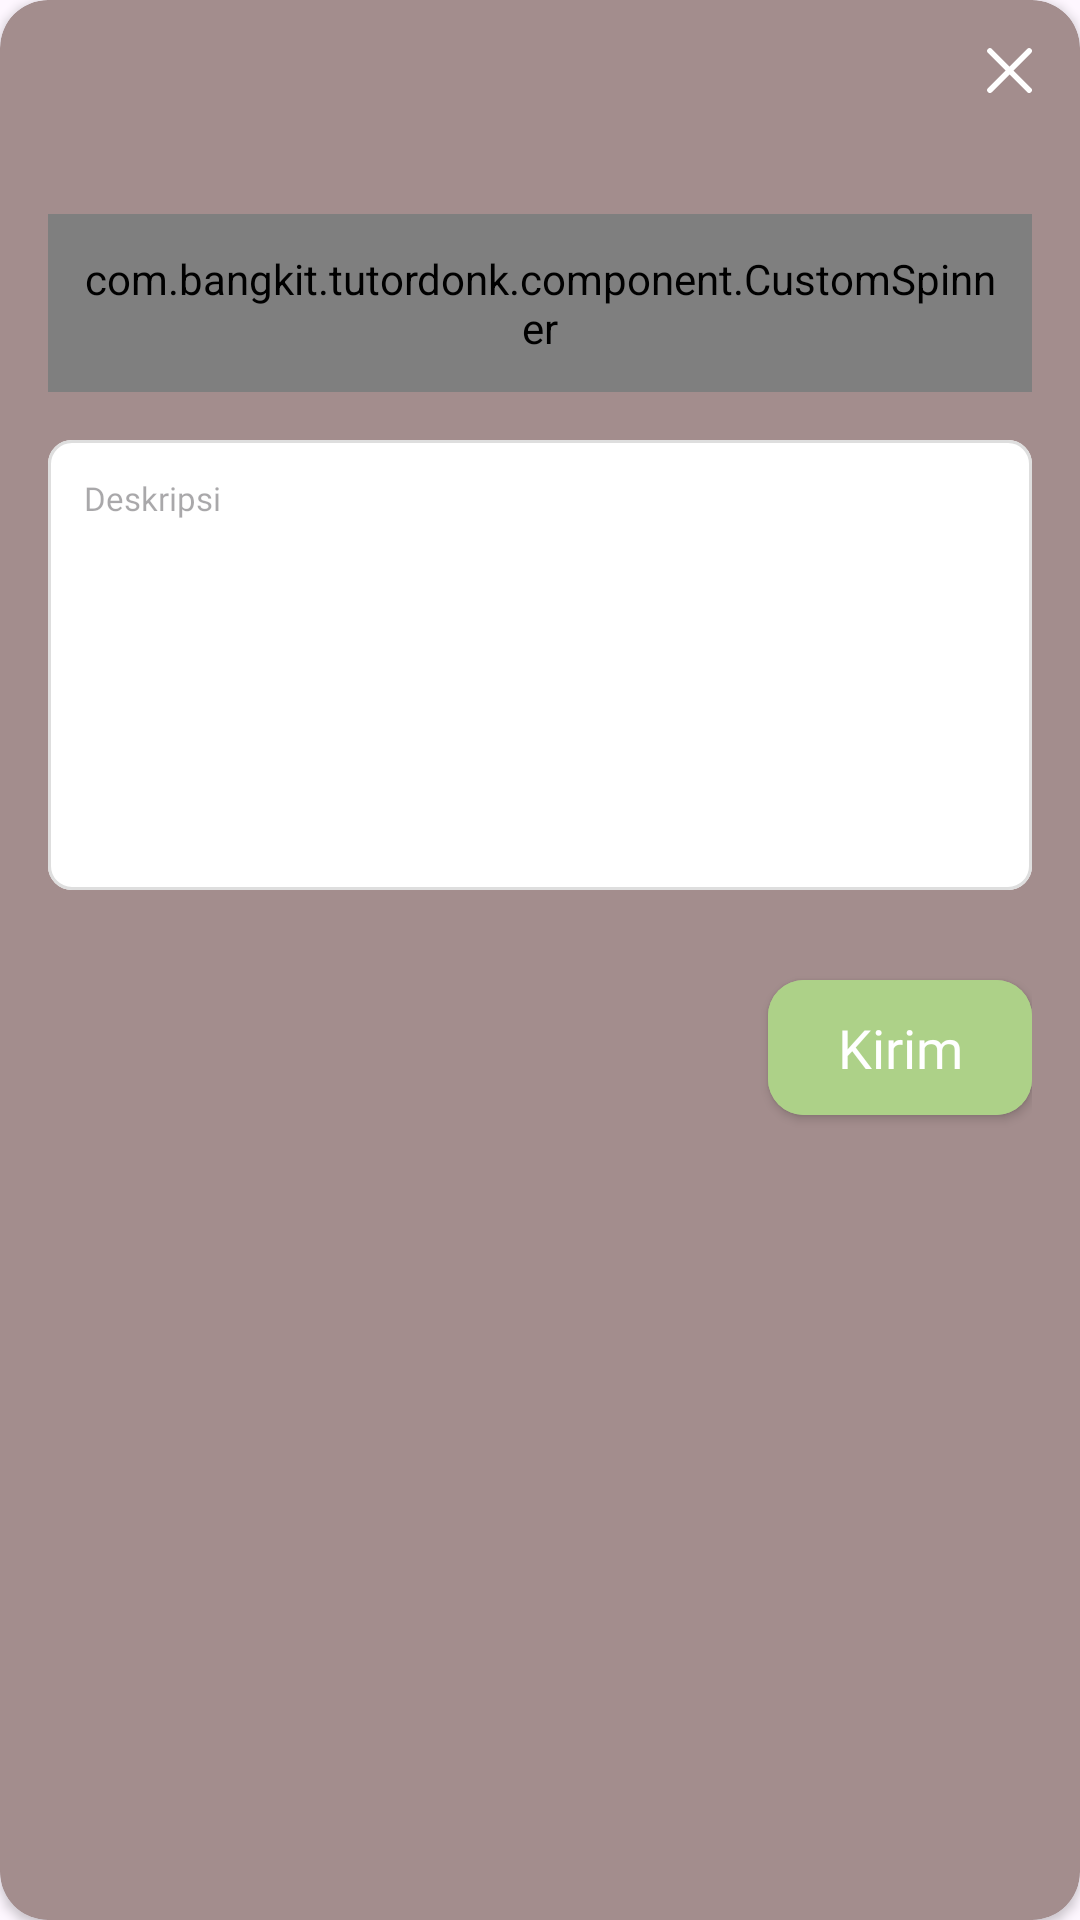

Screen size 1080 x 1920. Icon name, then its box in pixels as [x1=x1, y1=y1, x2=x2, y2=y2]:
Icon popup close: [x1=987, y1=48, x2=1032, y2=93]
